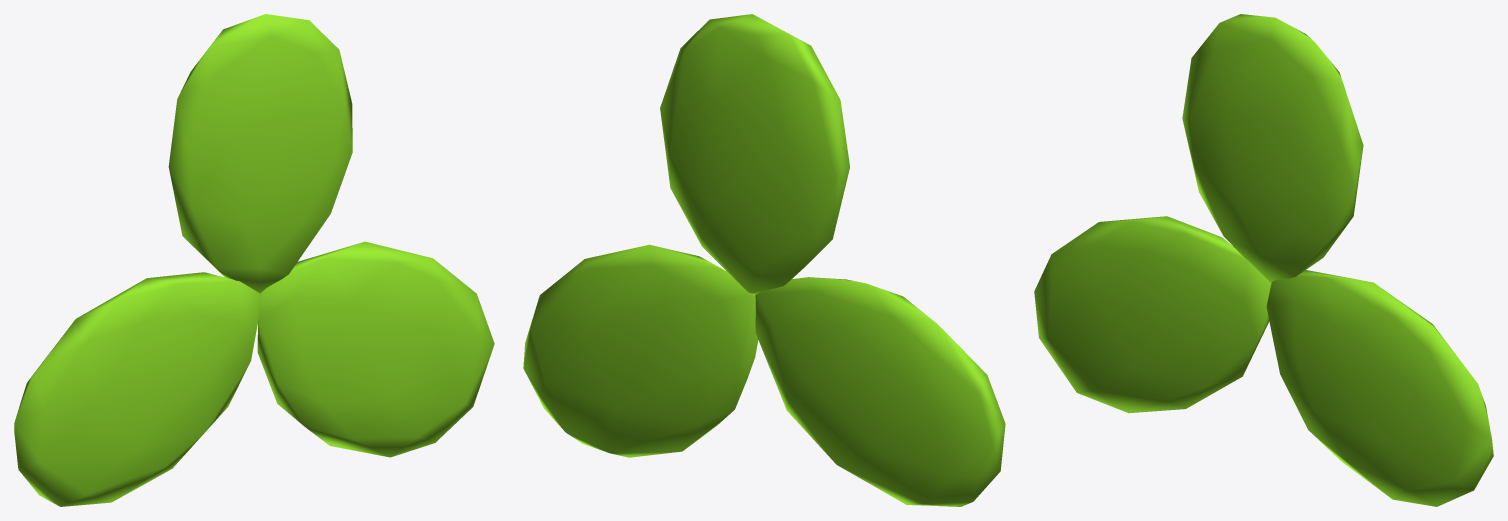
The model's file is roundsmallleaves.fbx.
3 views of the same model, side by side, from view 1: azimuth 30°, elevation 25°; view 2: azimuth 150°, elevation 25°; view 3: azimuth 330°, elevation 25° (orthographic). The views are drawn at different scales.
Visible parts, largest first — view 1: leaf3.001, leaf2.001, leaf.001; view 2: leaf3.001, leaf.001, leaf2.001; view 3: leaf3.001, leaf.001, leaf2.001.
Part boxes in pixels (left/top/right/bottom): leaf3.001: left=14, top=272, right=260, bottom=506; leaf2.001: left=257, top=241, right=494, bottom=457; leaf.001: left=168, top=14, right=352, bottom=293; leaf3.001: left=755, top=277, right=1005, bottom=506; leaf.001: left=660, top=14, right=849, bottom=294; leaf2.001: left=523, top=244, right=758, bottom=457; leaf3.001: left=1034, top=216, right=1271, bottom=413; leaf.001: left=1182, top=14, right=1363, bottom=282; leaf2.001: left=1266, top=270, right=1493, bottom=506.
Bounding box in the file's own units: 114 × 108 × 9.6.
